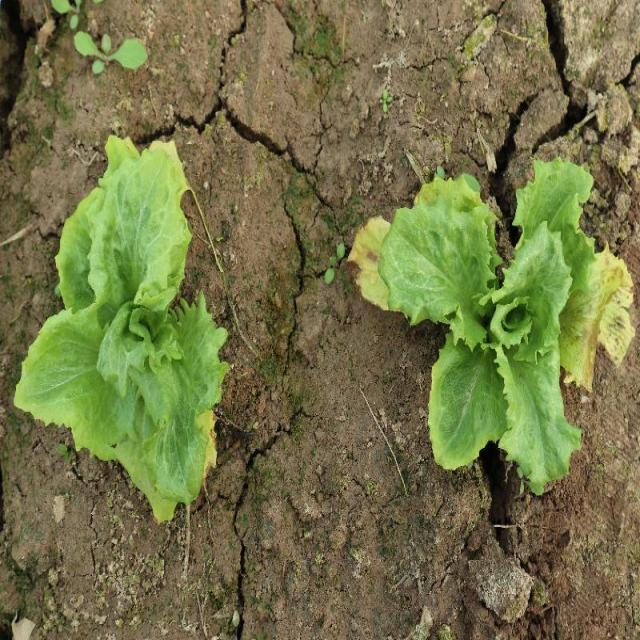crop: (358, 159, 615, 498), (15, 131, 229, 525)
